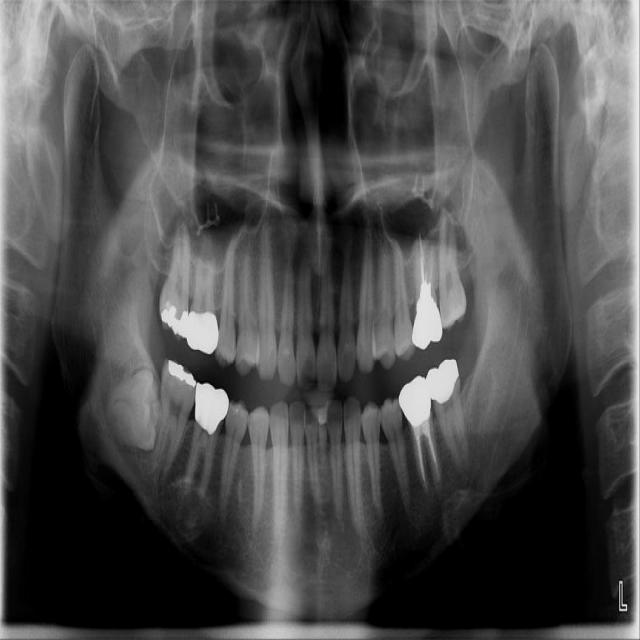Crown: (195, 382, 229, 439), (398, 376, 433, 429), (427, 358, 462, 411), (412, 292, 443, 351), (188, 303, 221, 354)
Filling: (161, 305, 189, 339), (169, 360, 196, 387)
Periapical lesion: (176, 491, 214, 530)
Root Canal Treatment: (421, 421, 440, 484), (414, 426, 427, 489), (420, 233, 425, 284), (428, 247, 433, 284)
impacted tooth: (104, 368, 156, 448)
